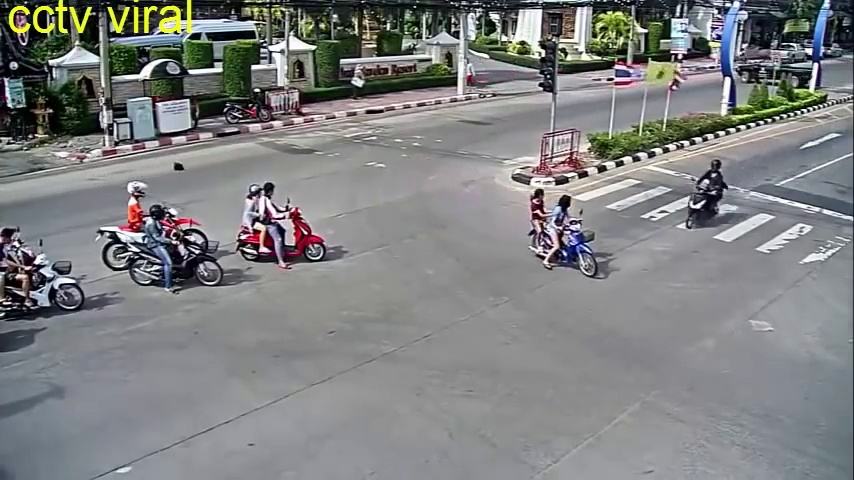motorbike: (102, 182, 212, 268), (129, 208, 227, 286), (3, 226, 84, 319), (526, 186, 602, 280), (241, 184, 329, 263), (686, 159, 730, 232)
